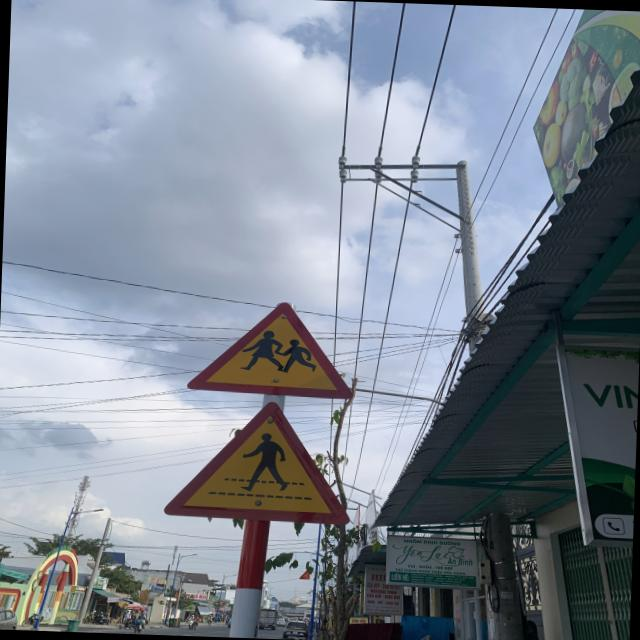Duong_Nguoi_Di_Bo_Sang_Ngang: (164, 398, 353, 524)
Vong_Xuyen: (185, 298, 355, 400)
